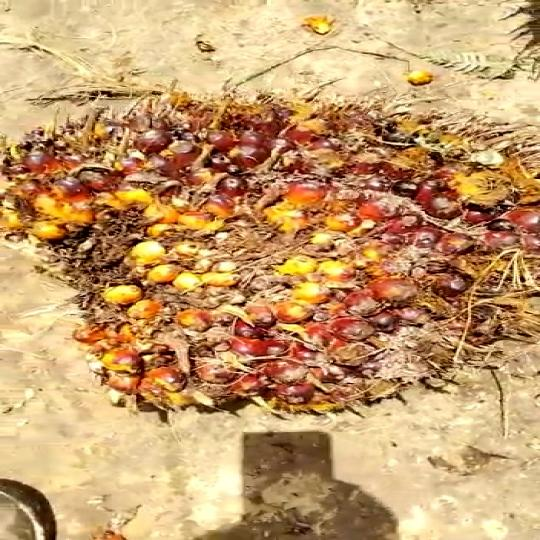masak: (0, 80, 540, 422)
